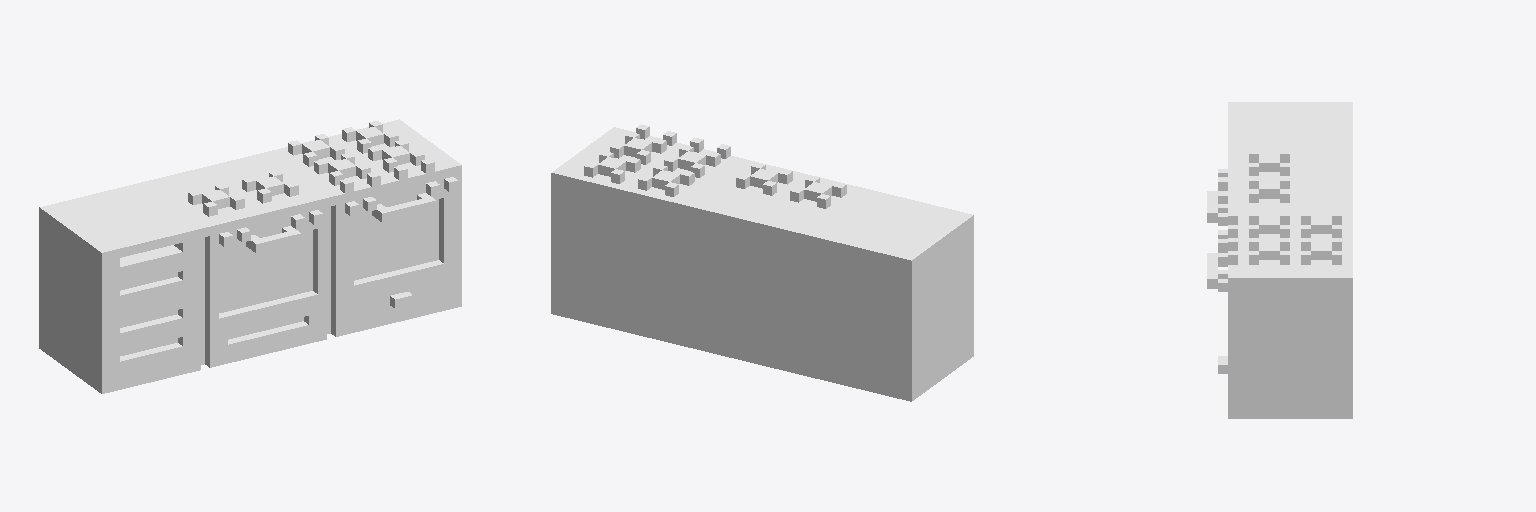
File: KitchenCounterAndStove.obj
3 renders of one model, left to right at view 1: azimuth 30°, elevation 25°; view 2: azimuth 150°, elevation 25°; view 3: azimuth 270°, elevation 25°, orthographic.
Visible parts, largest first — view 1: object 1; view 2: object 1; view 3: object 1.
Part boxes in pixels (left/top/right/bottom): object 1: left=39, top=119, right=461, bottom=393; object 1: left=551, top=124, right=973, bottom=401; object 1: left=1207, top=102, right=1352, bottom=418.
Bounding box in the file's own units: 4 × 1.6 × 1.4.